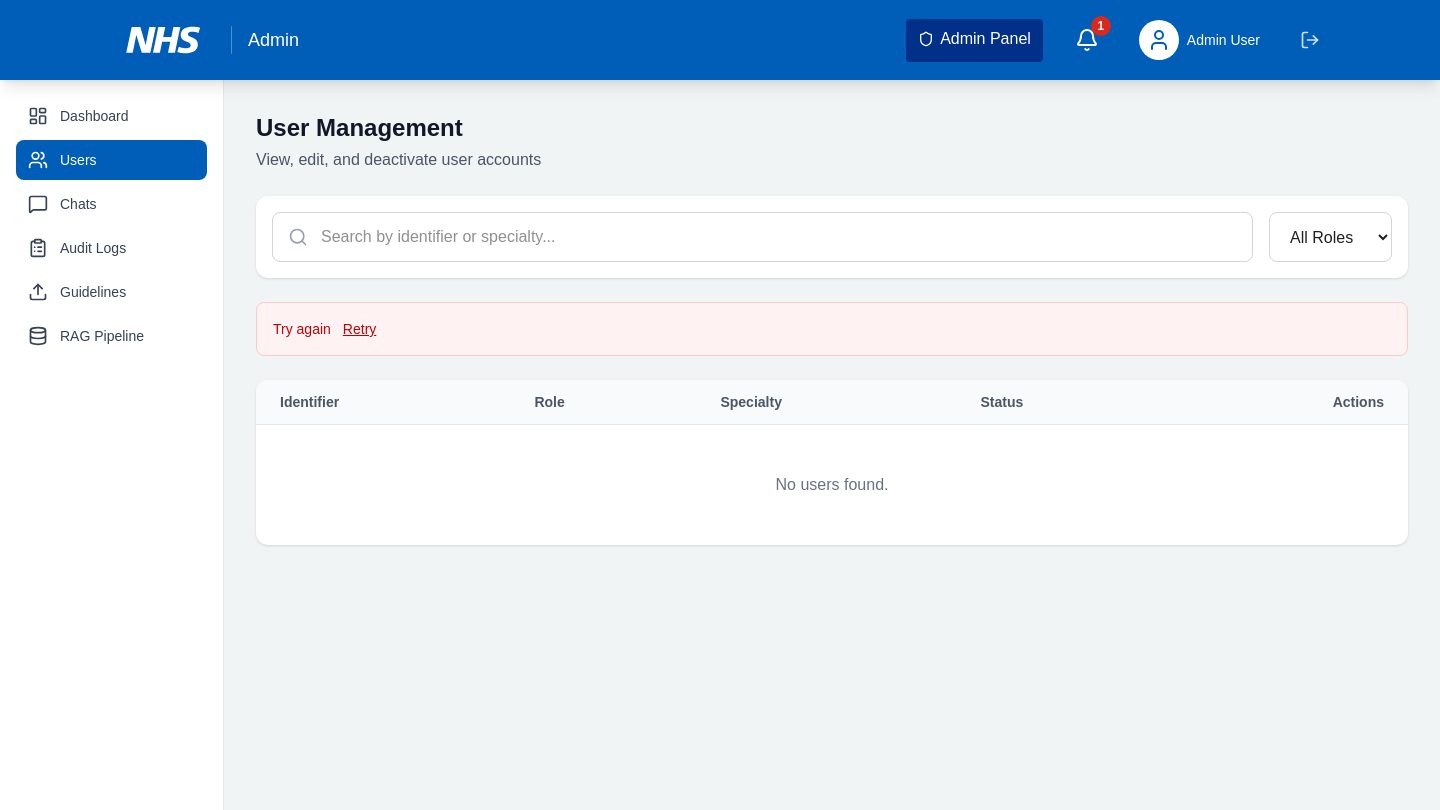
Test case: AdminUsersPage › retries load errors, filters by role, saves edit changes, and respects deactivate cancellation
The image size is (1440, 810).
Expected: the text "Try again Retry" is shown, x1=256 y1=302 x2=1408 y2=356
Step 1. Click the button "Retry" → click(360, 329), box x1=343 y1=319 x2=376 y2=339
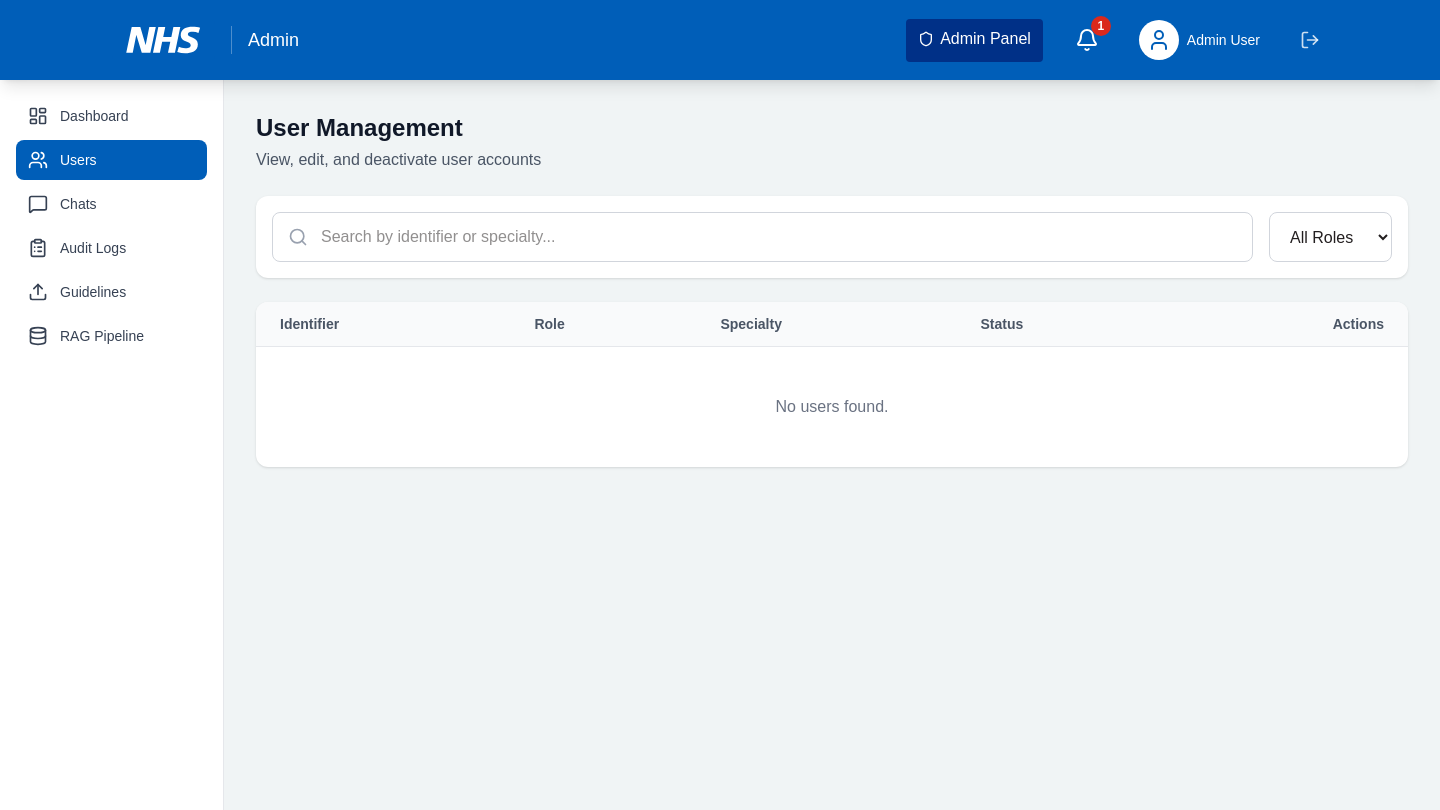
Step 2. Select "Specialist" in the dropdown showing "all roles" → (1330, 237), box x1=1269 y1=212 x2=1392 y2=262
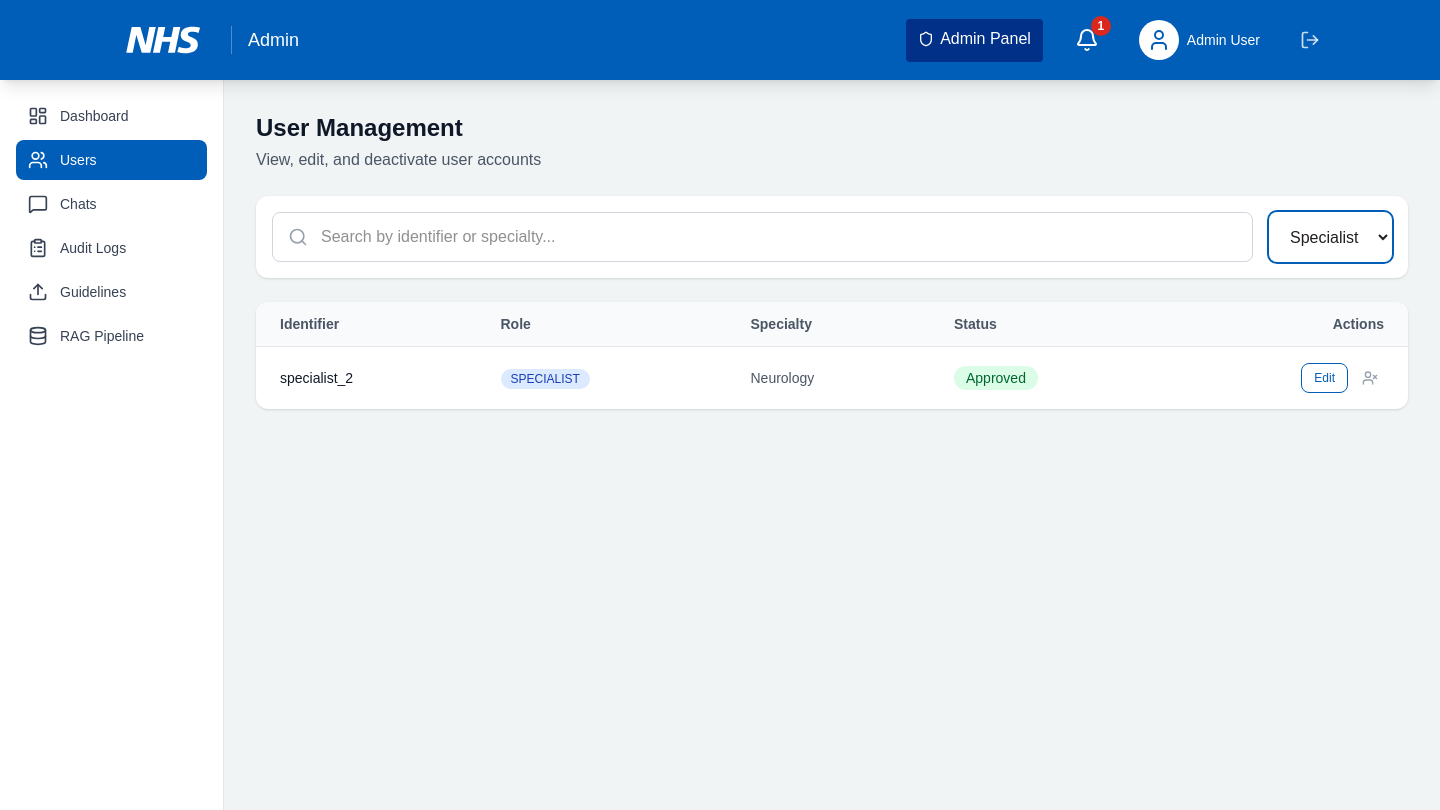
Now the text "specialist_2" is shown, box x1=256 y1=346 x2=476 y2=409
Step 3. Click the button "Edit" → click(1325, 378), box x1=1301 y1=363 x2=1348 y2=393
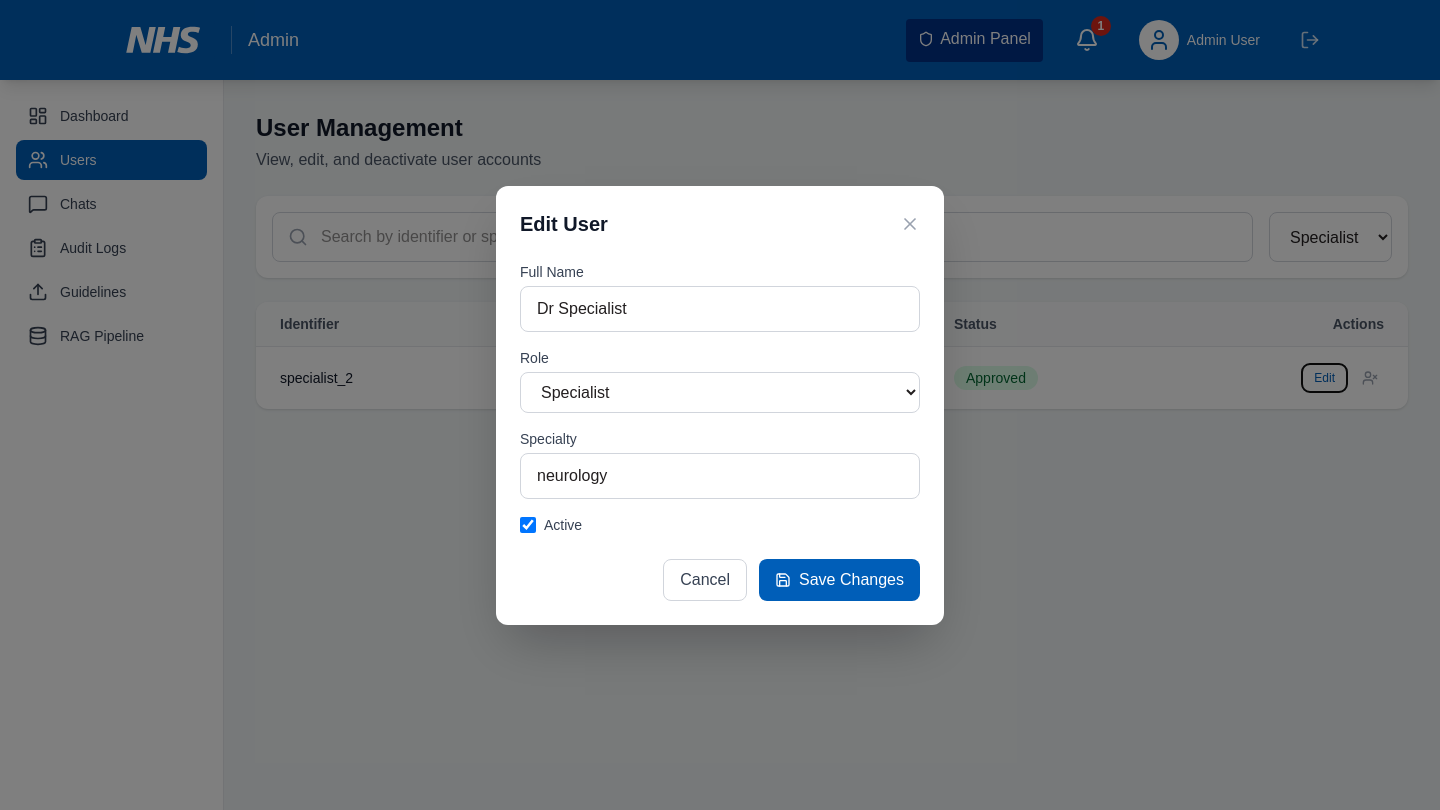
Step 4. Replace the text in the field showing "dr specialist" below "Full Name" with "Updated Specialist" → (720, 308), box x1=520 y1=286 x2=920 y2=332
Step 5. Click the button "Save Changes" → click(840, 580), box x1=759 y1=558 x2=920 y2=600
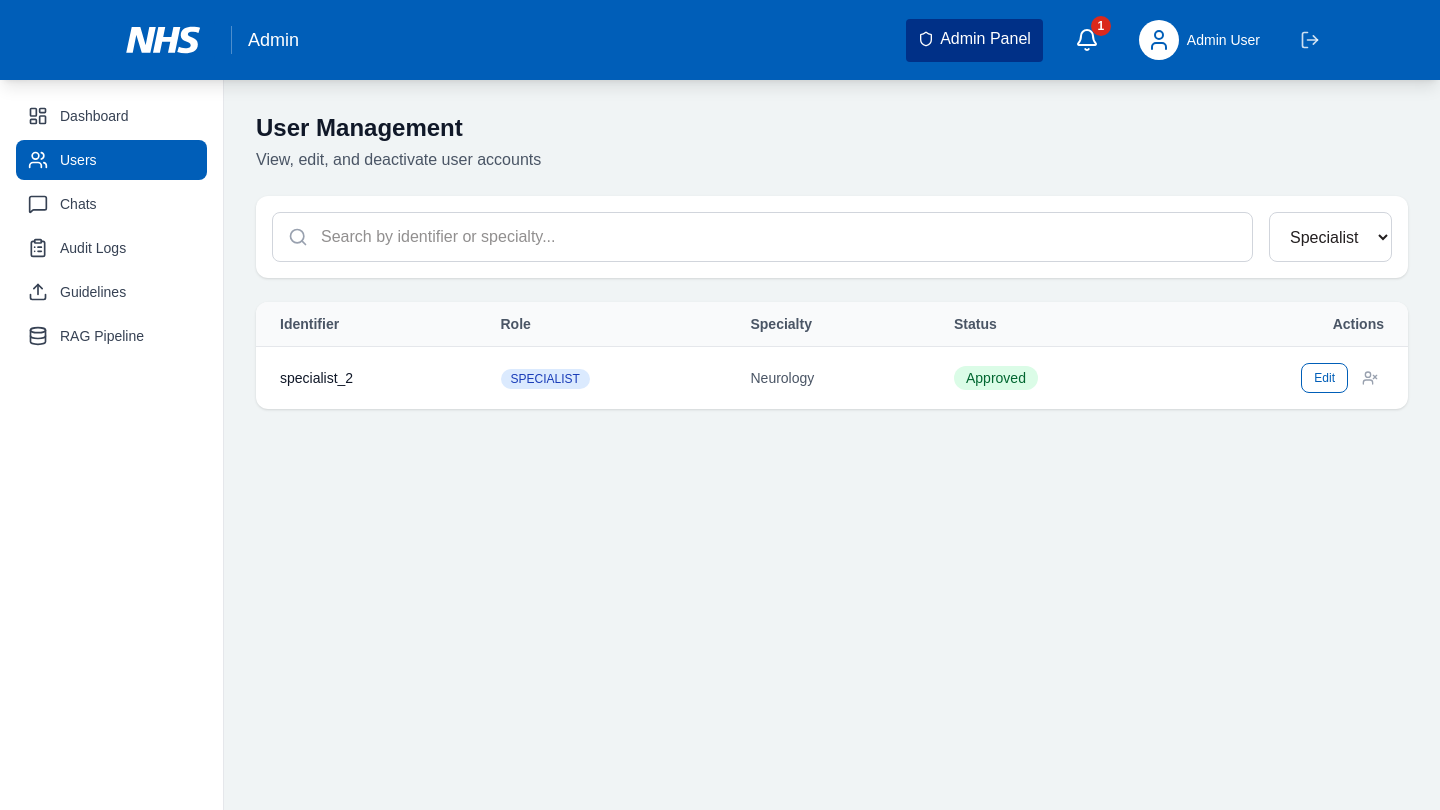
Now the text "specialist_2" is shown, box x1=256 y1=346 x2=476 y2=409
Step 6. Click the button titled "deactivate user" → click(1370, 378), box x1=1356 y1=364 x2=1384 y2=392
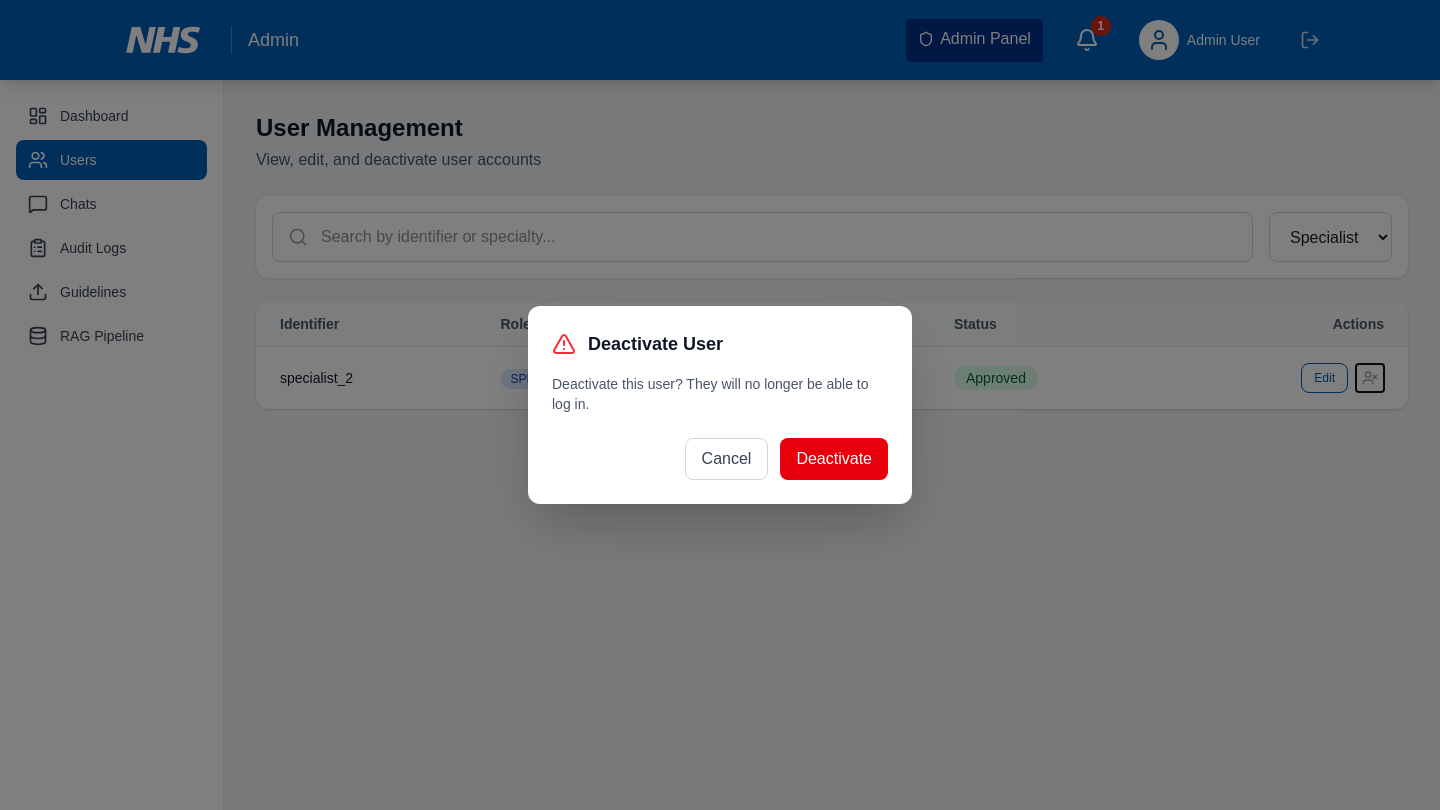
Now the dialog is shown, box x1=528 y1=306 x2=912 y2=504
Step 7. Click the button "Cancel" → click(726, 459), box x1=685 y1=438 x2=768 y2=480
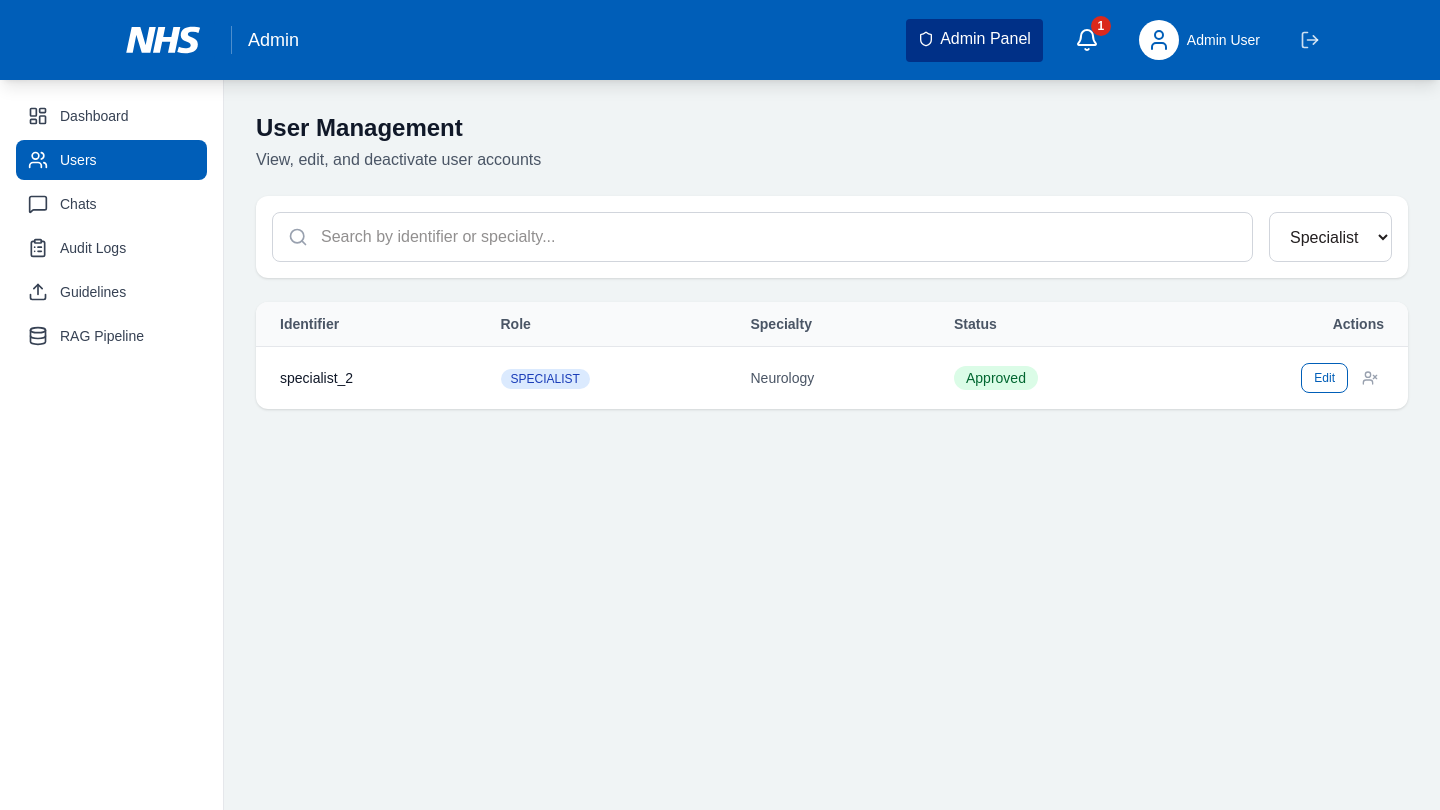
Now the dialog is gone
